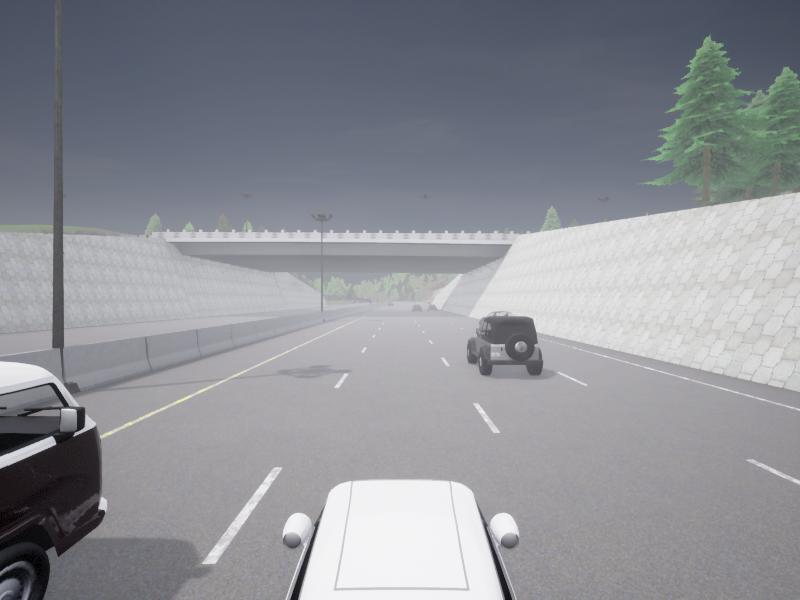vehicle: (283, 479, 518, 599), (0, 361, 106, 599), (467, 316, 542, 374), (479, 311, 514, 331), (412, 304, 421, 311), (427, 304, 436, 310), (388, 302, 392, 306)
